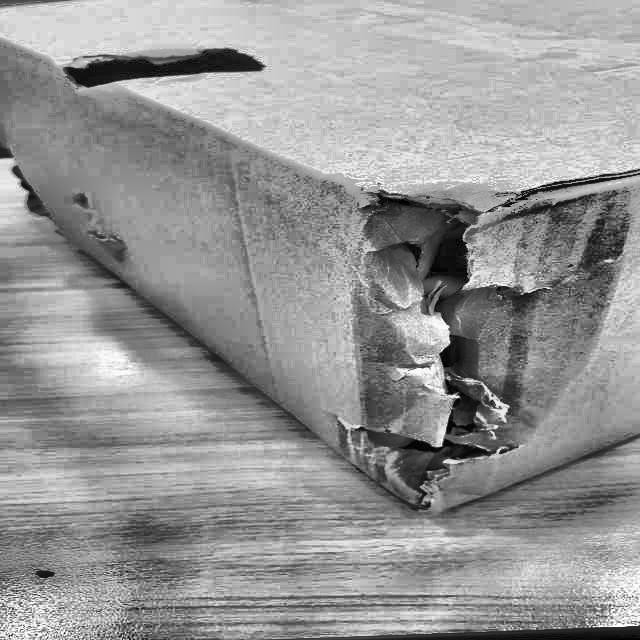box: (0, 0, 639, 522)
hole: (358, 182, 522, 510), (56, 44, 275, 95)
